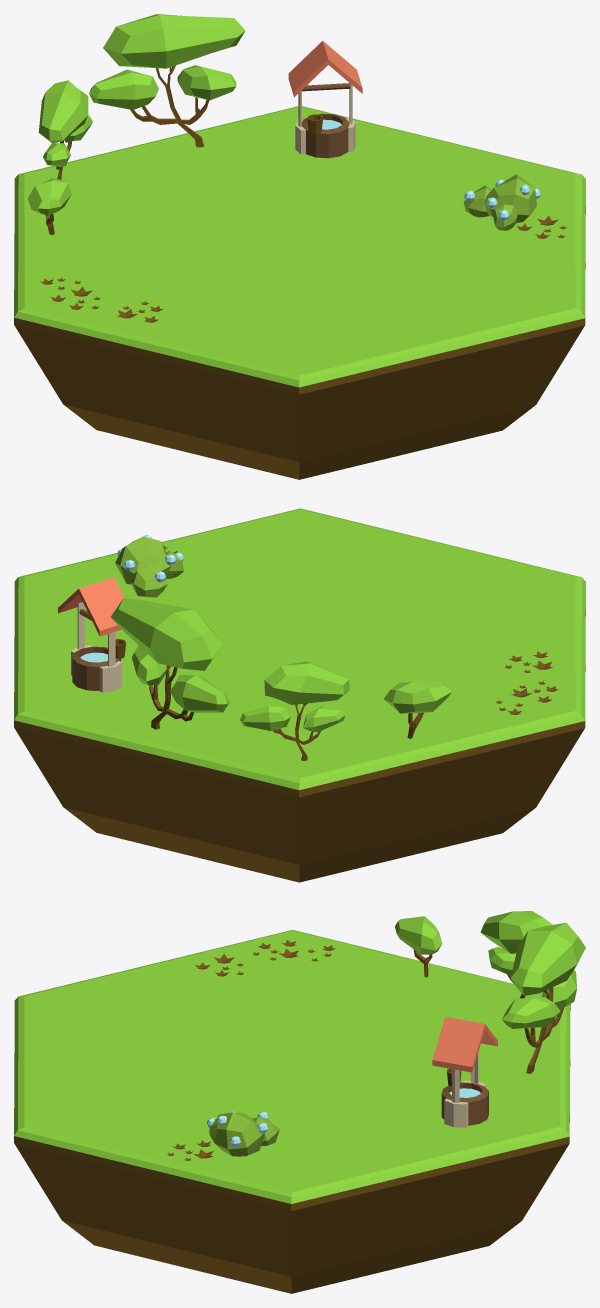
Rendered from Asset_Biome_Plain.fbx.
3 views of the same model, one above another, from view 1: azimuth 30°, elevation 25°; view 2: azimuth 150°, elevation 25°; view 3: azimuth 270°, elevation 25° (orthographic). The views are drawn at different scales.
Parts seen in each view (by area): view 1: Asset_Tile_Plain, Asset_Tree_Plain_01, structure_puit, Asset_Tree_Plain_02, Asset_Bush_Plain_01, Asset_Tree_Plain_03; view 2: Asset_Tile_Plain, Asset_Tree_Plain_01, Asset_Tree_Plain_02, structure_puit, Asset_Bush_Plain_01, Asset_Tree_Plain_03; view 3: Asset_Tile_Plain, Asset_Tree_Plain_01, structure_puit, Asset_Tree_Plain_02, Asset_Bush_Plain_01, Asset_Tree_Plain_03.
Boxes of the visible parts, <box> form: Asset_Tile_Plain: <box>14,106,585,479</box>; Asset_Tree_Plain_01: <box>89,14,245,147</box>; structure_puit: <box>288,41,362,158</box>; Asset_Tree_Plain_02: <box>38,80,92,179</box>; Asset_Bush_Plain_01: <box>463,174,536,230</box>; Asset_Tree_Plain_03: <box>27,178,71,234</box>; Asset_Tile_Plain: <box>14,508,585,882</box>; Asset_Tree_Plain_01: <box>111,598,229,729</box>; Asset_Tree_Plain_02: <box>240,661,349,760</box>; structure_puit: <box>58,577,124,692</box>; Asset_Bush_Plain_01: <box>115,536,183,597</box>; Asset_Tree_Plain_03: <box>383,681,451,738</box>; Asset_Tile_Plain: <box>14,930,570,1293</box>; Asset_Tree_Plain_01: <box>502,922,585,1073</box>; structure_puit: <box>432,1017,497,1127</box>; Asset_Tree_Plain_02: <box>480,911,552,998</box>; Asset_Bush_Plain_01: <box>209,1112,279,1156</box>; Asset_Tree_Plain_03: <box>394,916,442,977</box>.
Bounding box in the file's own units: 436 × 206 × 389.
2 materials, 2 textured.
